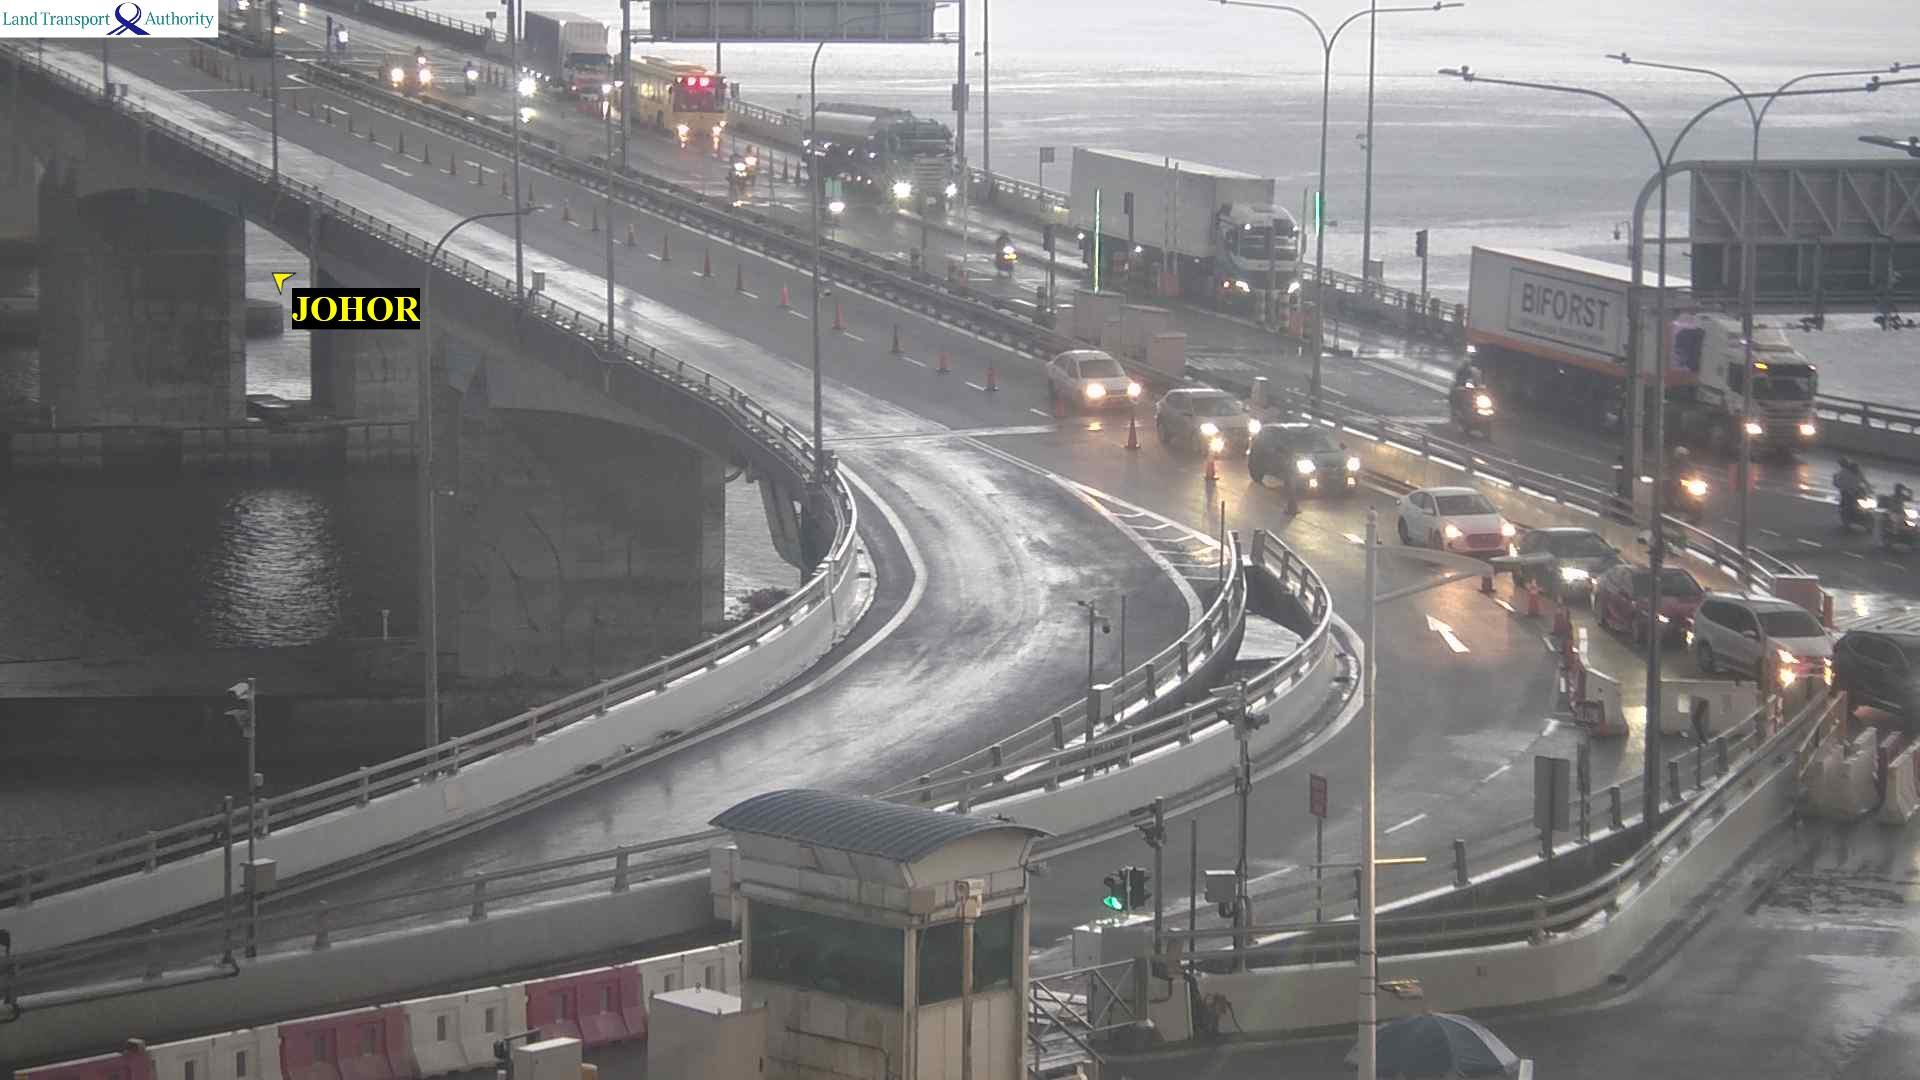vehicle-secondlink-singapore: (1476, 245, 1813, 444), (1072, 136, 1299, 303), (796, 100, 960, 161), (1696, 603, 1832, 671), (1395, 491, 1516, 554), (1589, 567, 1700, 636), (1158, 388, 1262, 452), (1840, 625, 1920, 708), (617, 63, 732, 120), (1253, 425, 1357, 484), (527, 11, 603, 92), (1044, 349, 1138, 413), (1509, 530, 1619, 582), (1832, 458, 1875, 533), (1453, 367, 1497, 433), (1669, 450, 1713, 508), (1883, 485, 1916, 545), (373, 57, 430, 88), (731, 145, 760, 181), (997, 229, 1018, 272), (467, 65, 481, 96), (335, 20, 349, 47), (406, 47, 422, 66)
